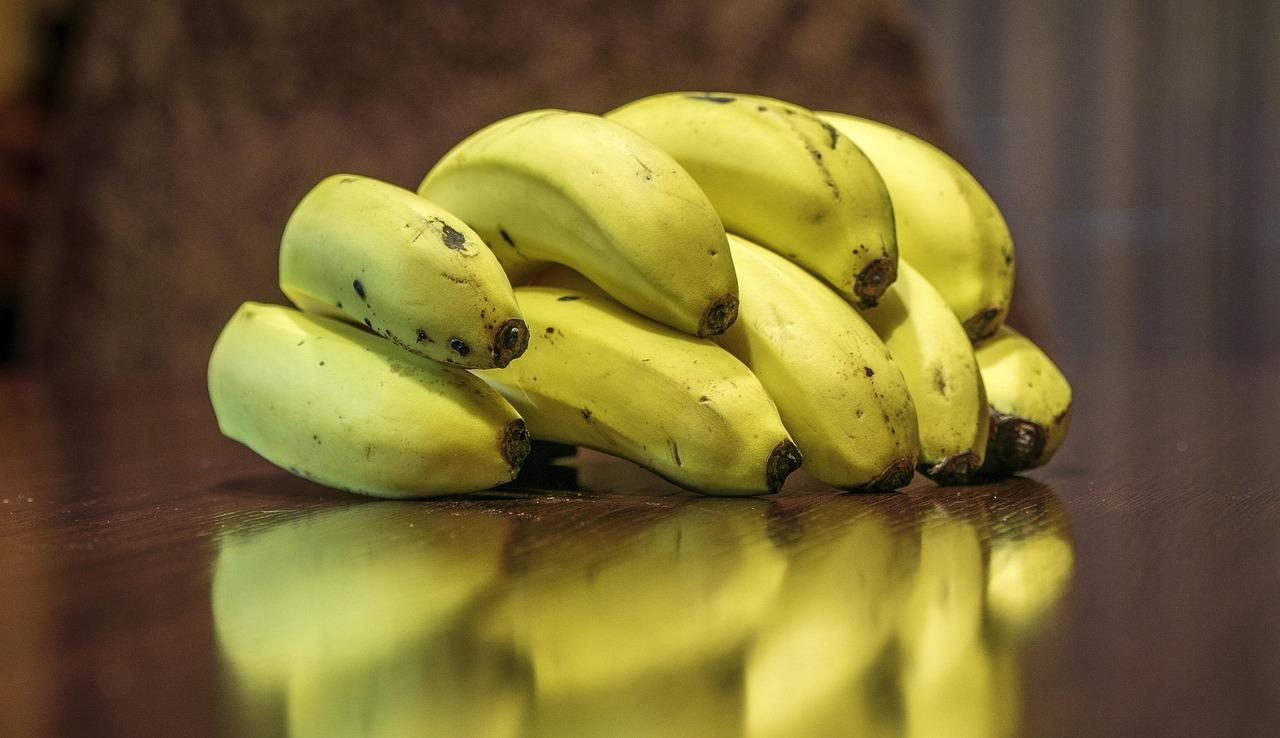banana: (212, 95, 1097, 524)
